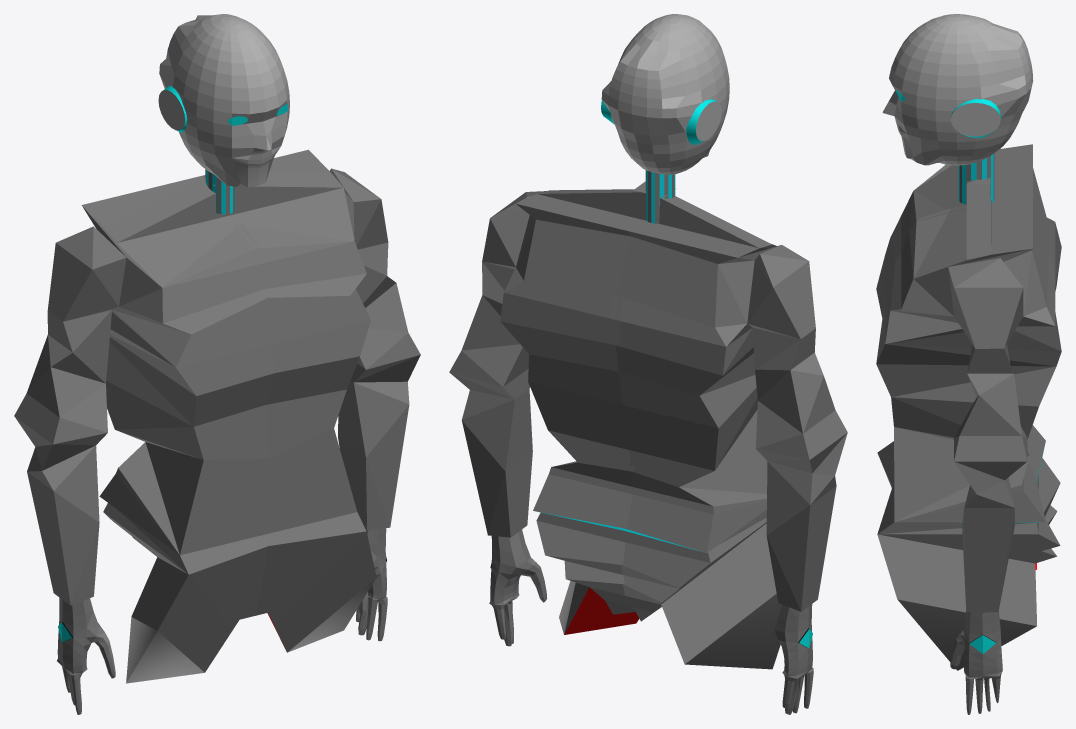
Rendered from try_3_model_+glow.fbx.
The picture shows the model from 3 angles, left to right: view 1: azimuth 30°, elevation 25°; view 2: azimuth 150°, elevation 25°; view 3: azimuth 270°, elevation 25°; orthographic projection. The views are drawn at different scales.
Parts seen in each view (by area): view 1: polySurface10, polySurface8, pCylinder5, polySurface11, polySurface9; view 2: polySurface10, polySurface8, pCylinder5, polySurface9, polySurface11; view 3: polySurface8, pCylinder5, polySurface10, polySurface9.
Boxes of the visible parts, bbox=[...] form: polySurface10: bbox=[14, 176, 274, 683]; polySurface8: bbox=[190, 149, 420, 652]; pCylinder5: bbox=[158, 14, 289, 214]; polySurface11: bbox=[57, 597, 115, 714]; polySurface9: bbox=[356, 528, 387, 641]; polySurface10: bbox=[610, 181, 847, 669]; polySurface8: bbox=[449, 188, 675, 634]; pCylinder5: bbox=[601, 14, 729, 223]; polySurface9: bbox=[489, 529, 547, 646]; polySurface11: bbox=[774, 604, 813, 714]; polySurface8: bbox=[876, 178, 1061, 670]; pCylinder5: bbox=[882, 14, 1033, 204]; polySurface10: bbox=[876, 144, 1061, 569]; polySurface9: bbox=[950, 610, 1002, 714].
Bounding box in the file's own units: 4.23 × 7.31 × 1.96.
